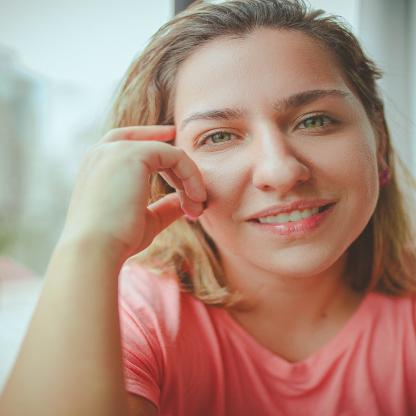Eye: (285, 108, 344, 140), (190, 124, 249, 155)
Mouth: (239, 194, 345, 235)
Nose: (250, 128, 313, 194)
